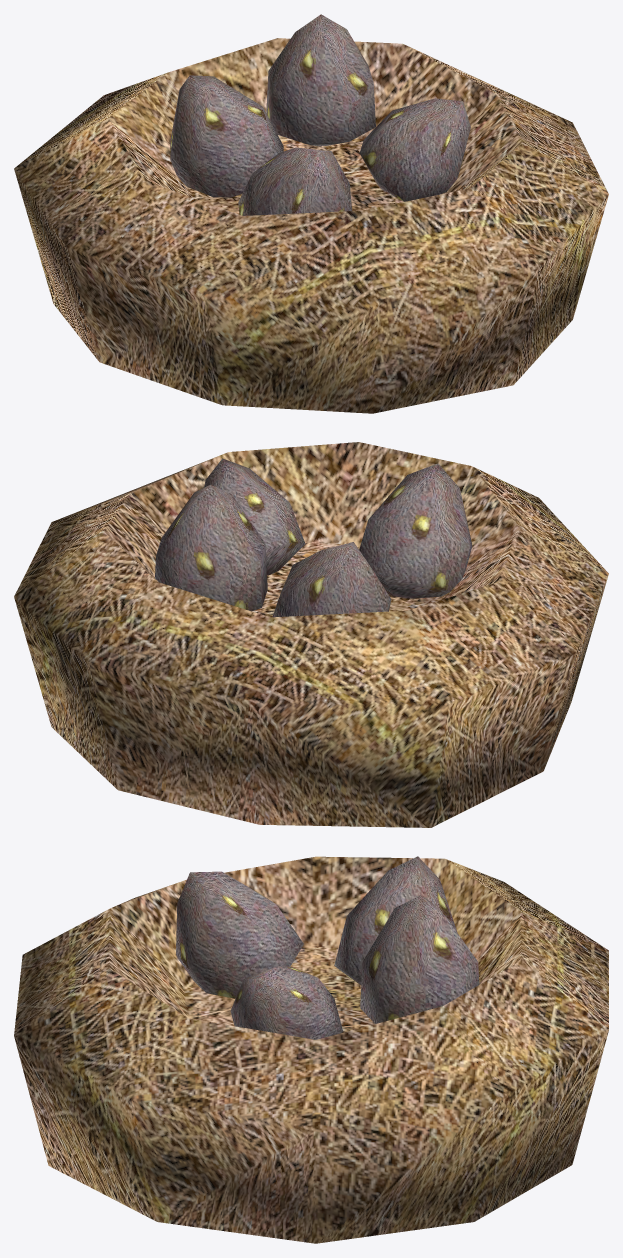
File: poi_all_lair_nest_tree_l1.fbx
The picture shows the model from 3 angles, top to bottom: view 1: azimuth 30°, elevation 25°; view 2: azimuth 150°, elevation 25°; view 3: azimuth 270°, elevation 25°; orthographic projection. The views are drawn at different scales.
Visible parts, largest first — view 1: mesh_node; view 2: mesh_node; view 3: mesh_node.
Part boxes in pixels (x1,y1,x2,y2): mesh_node: (14, 14, 608, 413); mesh_node: (14, 442, 608, 827); mesh_node: (14, 856, 608, 1243).
Size of the model in its own units: 2.79 by 1.33 by 2.68.
